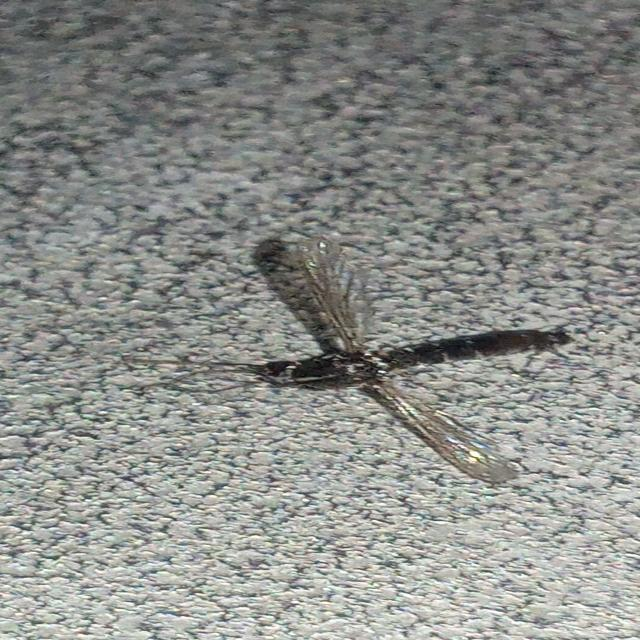albopictus: (247, 226, 530, 483)
